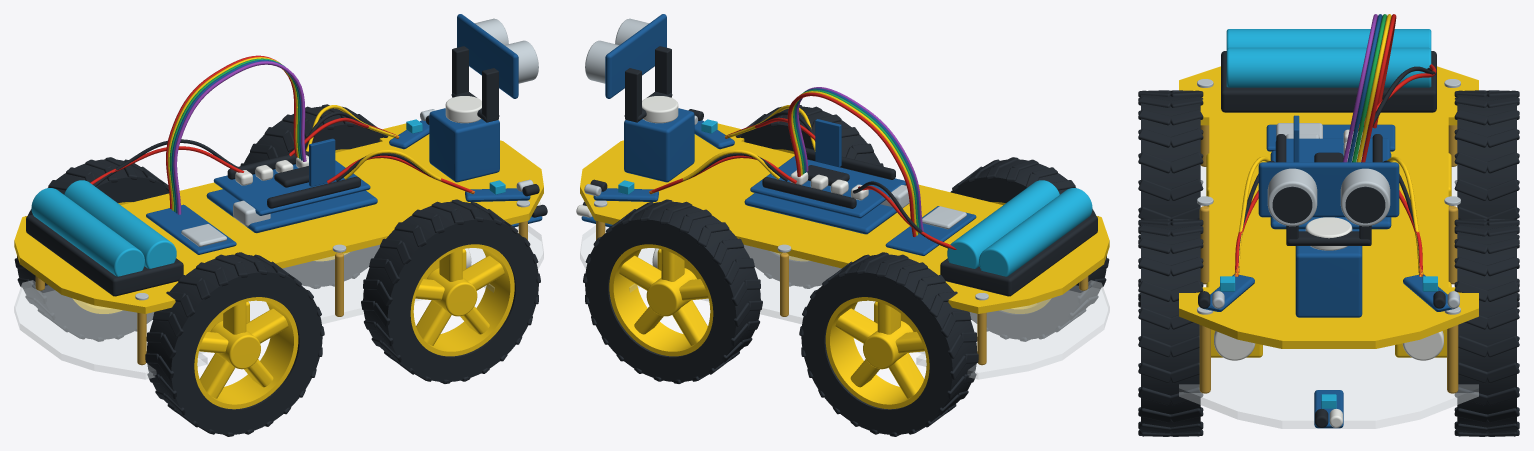
File: rover-multiview.glb
3 renders of one model, left to right at view 1: azimuth 30°, elevation 25°; view 2: azimuth 150°, elevation 25°; view 3: azimuth 270°, elevation 25°, orthographic. The views are drawn at different scales.
Visible parts, largest first — view 1: Chassis plate.001, Tire.002, Tire, Chassis plate, Tire.001, Battery cell, Servo, Tire.003, Yellow rim.002, Yellow rim, Battery cradle, Battery cell.001 (+33 smaller); view 2: Chassis plate.001, Tire.003, Tire.001, Chassis plate, Tire, Battery cell, Servo, Tire.002, Yellow rim.003, Yellow rim.001, Battery cradle, Battery cell.001 (+29 smaller); view 3: Chassis plate.001, Chassis plate, Battery cell.001, Tire.002, Tire.003, Battery cradle, Servo, Tire, Tire.001, Ultrasonic PCB, Battery cell, Controller shield (+54 smaller).
Boxes of the visible parts, left/top/right/bottom form: Chassis plate.001: left=14, top=123, right=543, bottom=313; Tire.002: left=363, top=201, right=538, bottom=381; Tire: left=146, top=254, right=322, bottom=434; Chassis plate: left=14, top=225, right=543, bottom=379; Tire.001: left=17, top=159, right=169, bottom=339; Battery cell: left=31, top=188, right=144, bottom=276; Servo: left=429, top=108, right=499, bottom=182; Tire.003: left=244, top=106, right=383, bottom=286; Yellow rim.002: left=410, top=244, right=514, bottom=356; Yellow rim: left=194, top=297, right=298, bottom=409; Battery cradle: left=26, top=214, right=183, bottom=296; Battery cell.001: left=64, top=180, right=176, bottom=268; Chassis plate.001: left=580, top=123, right=1109, bottom=313; Tire.003: left=585, top=201, right=760, bottom=381; Tire.001: left=801, top=254, right=977, bottom=434; Chassis plate: left=580, top=225, right=1109, bottom=379; Tire: left=950, top=159, right=1106, bottom=339; Battery cell: left=979, top=188, right=1092, bottom=276; Servo: left=624, top=108, right=694, bottom=182; Tire.002: left=740, top=106, right=879, bottom=286; Yellow rim.003: left=609, top=244, right=713, bottom=356; Yellow rim.001: left=825, top=297, right=929, bottom=409; Battery cradle: left=940, top=214, right=1097, bottom=296; Battery cell.001: left=947, top=180, right=1059, bottom=268; Chassis plate.001: left=1179, top=66, right=1478, bottom=348; Chassis plate: left=1179, top=166, right=1478, bottom=428; Battery cell.001: left=1226, top=47, right=1431, bottom=87; Tire.002: left=1141, top=223, right=1200, bottom=433; Tire.003: left=1457, top=223, right=1516, bottom=433; Battery cradle: left=1221, top=51, right=1436, bottom=112; Servo: left=1295, top=229, right=1362, bottom=317; Tire: left=1141, top=94, right=1200, bottom=219; Tire.001: left=1457, top=94, right=1516, bottom=219; Ultrasonic PCB: left=1258, top=162, right=1399, bottom=217; Battery cell: left=1226, top=29, right=1431, bottom=48; Controller shield: left=1275, top=138, right=1390, bottom=162.
Size of the model in its own units: 6.96 by 3.66 by 3.76.
